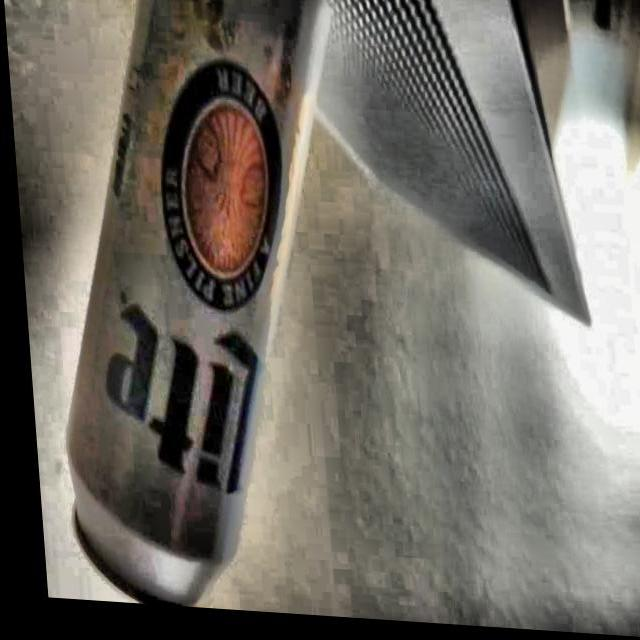litter: (18, 0, 387, 625)
